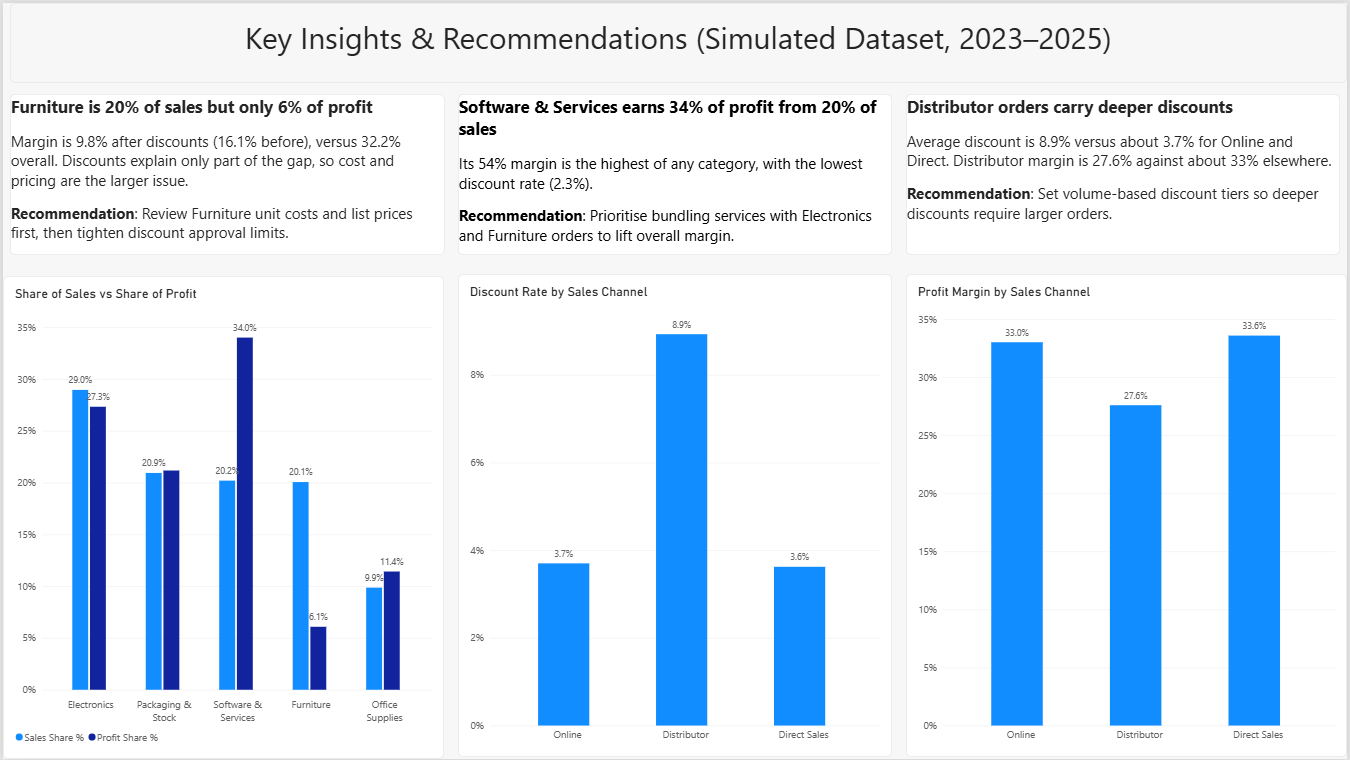

Layout of this report page (visuals, bound fields, positions):
{"tool":"powerbi","page":{"name":"Insights & Recommendations","canvas":[1920,1080],"ordinal":2},"visuals":[{"type":"textbox","box":[10.5,0,1909.5,113.9],"z":0},{"type":"textbox","box":[10.5,130,620.5,230],"z":1000},{"type":"textbox","box":[650,130,620,230],"z":2000},{"type":"textbox","box":[1290,130,620,230],"z":3000},{"type":"clusteredColumnChart","title":"Share of Sales vs Share of Profit","fields":{"Category":["Products.Category"],"Y":["Sales.Sales Share %","Sales.Profit Share %"]},"box":[0,389.5,630.3,690.1],"z":4000},{"type":"clusteredColumnChart","title":"Discount Rate by Sales Channel","fields":{"Category":["Sales.Sales Channel"],"Y":["Sales.Discount Rate %"]},"box":[650.7,386.6,620.1,690.1],"z":5000},{"type":"clusteredColumnChart","title":"Profit Margin by Sales Channel","fields":{"Category":["Sales.Sales Channel"],"Y":["Sales.Profit Margin %"]},"box":[1289.7,386.6,630.3,690.1],"z":6000}]}

Visuals, with their boxes in screenshot pixels (x1, y1, x2, y2), scaled from the page's 1920x1080 canvas onto the 1350x760 screenshot:
textbox: bbox(7, 0, 1349, 80)
textbox: bbox(7, 91, 444, 253)
textbox: bbox(457, 91, 893, 253)
textbox: bbox(907, 91, 1343, 253)
"Share of Sales vs Share of Profit" clusteredColumnChart: bbox(0, 274, 443, 759)
"Discount Rate by Sales Channel" clusteredColumnChart: bbox(458, 272, 894, 758)
"Profit Margin by Sales Channel" clusteredColumnChart: bbox(907, 272, 1349, 758)
